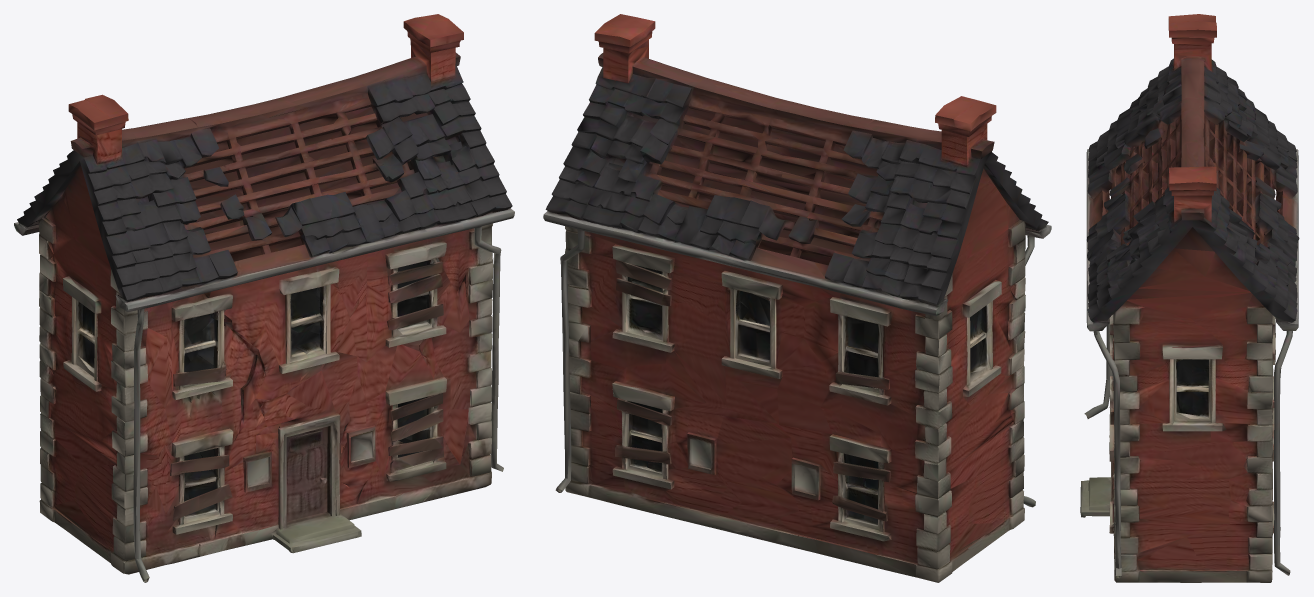
The model's file is house_brick2_idle.glb.
3 views of the same model, side by side, from view 1: azimuth 30°, elevation 25°; view 2: azimuth 150°, elevation 25°; view 3: azimuth 270°, elevation 25° (orthographic). The views are drawn at different scales.
Visible parts, largest first — view 1: tripo_node_5b5f11c2-6084-46fb-99cf-cd2fd6d11af4; view 2: tripo_node_5b5f11c2-6084-46fb-99cf-cd2fd6d11af4; view 3: tripo_node_5b5f11c2-6084-46fb-99cf-cd2fd6d11af4.
Part boxes in pixels (left/top/right/bottom): tripo_node_5b5f11c2-6084-46fb-99cf-cd2fd6d11af4: left=14, top=14, right=514, bottom=582; tripo_node_5b5f11c2-6084-46fb-99cf-cd2fd6d11af4: left=543, top=14, right=1051, bottom=582; tripo_node_5b5f11c2-6084-46fb-99cf-cd2fd6d11af4: left=1080, top=14, right=1299, bottom=582.
Size of the model in its own units: 9 by 9.56 by 4.69.
Materials: 1 (1 with a texture image).
